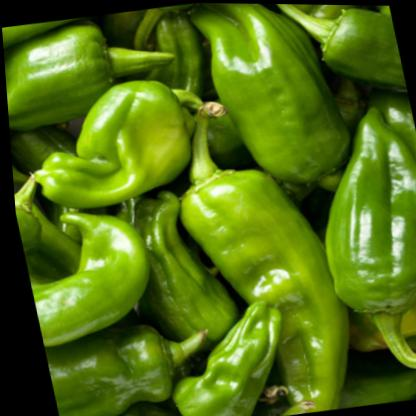chilli_pepper: (157, 114, 361, 416), (2, 40, 222, 238), (294, 85, 416, 398)
